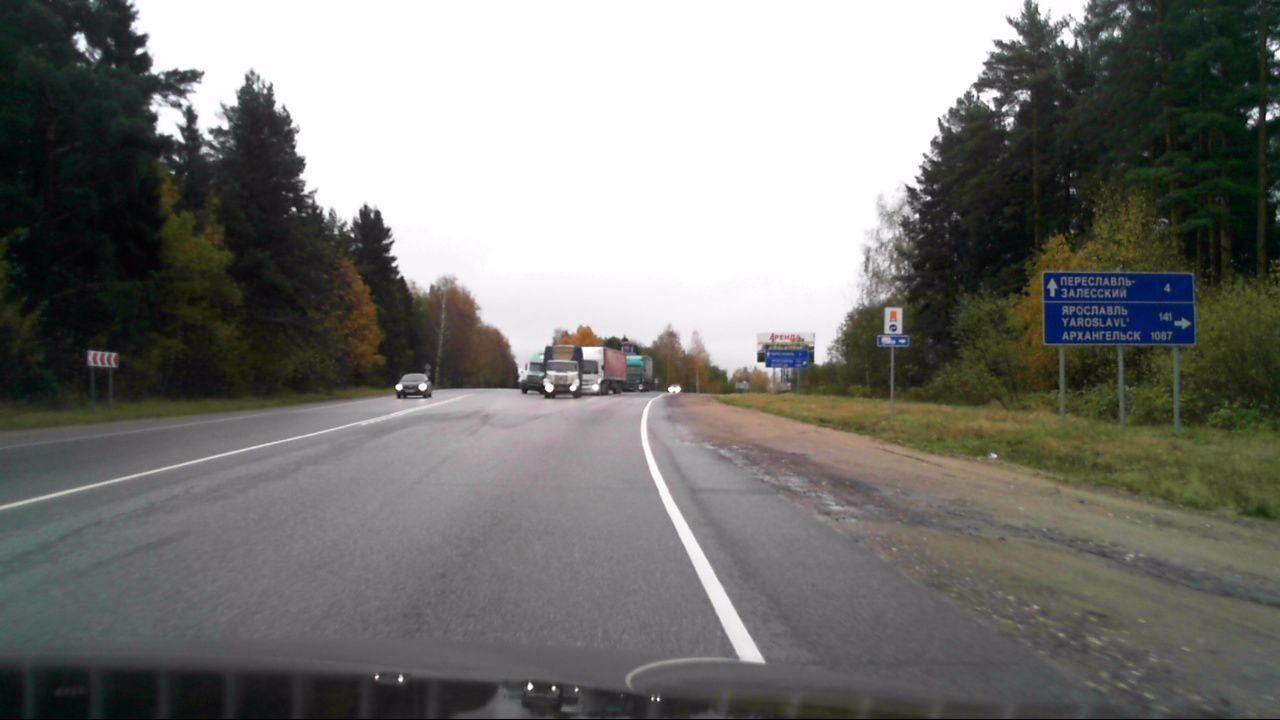1_34_2: (86, 346, 123, 370)
4_8_2: (884, 307, 902, 334)
6_15_2: (876, 335, 910, 347)
6_9_1: (1040, 270, 1197, 345), (767, 348, 809, 370)
